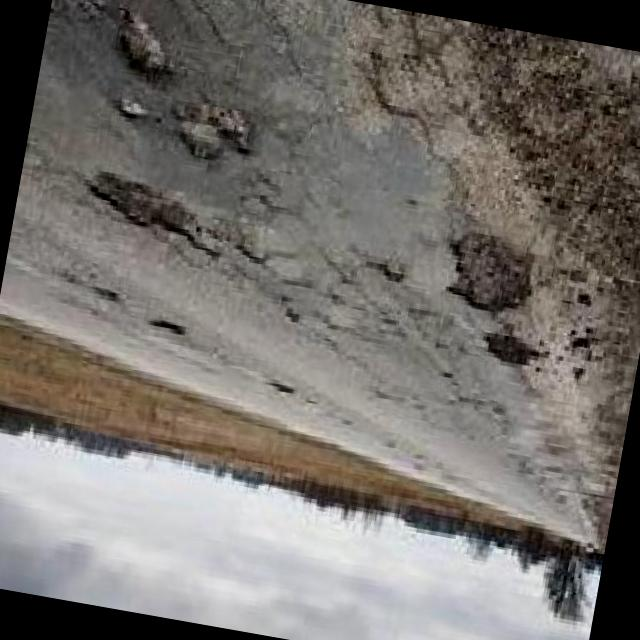pothole: (75, 170, 228, 267), (441, 229, 545, 323), (166, 96, 258, 170), (106, 5, 184, 88), (476, 329, 546, 377), (114, 98, 154, 126)
